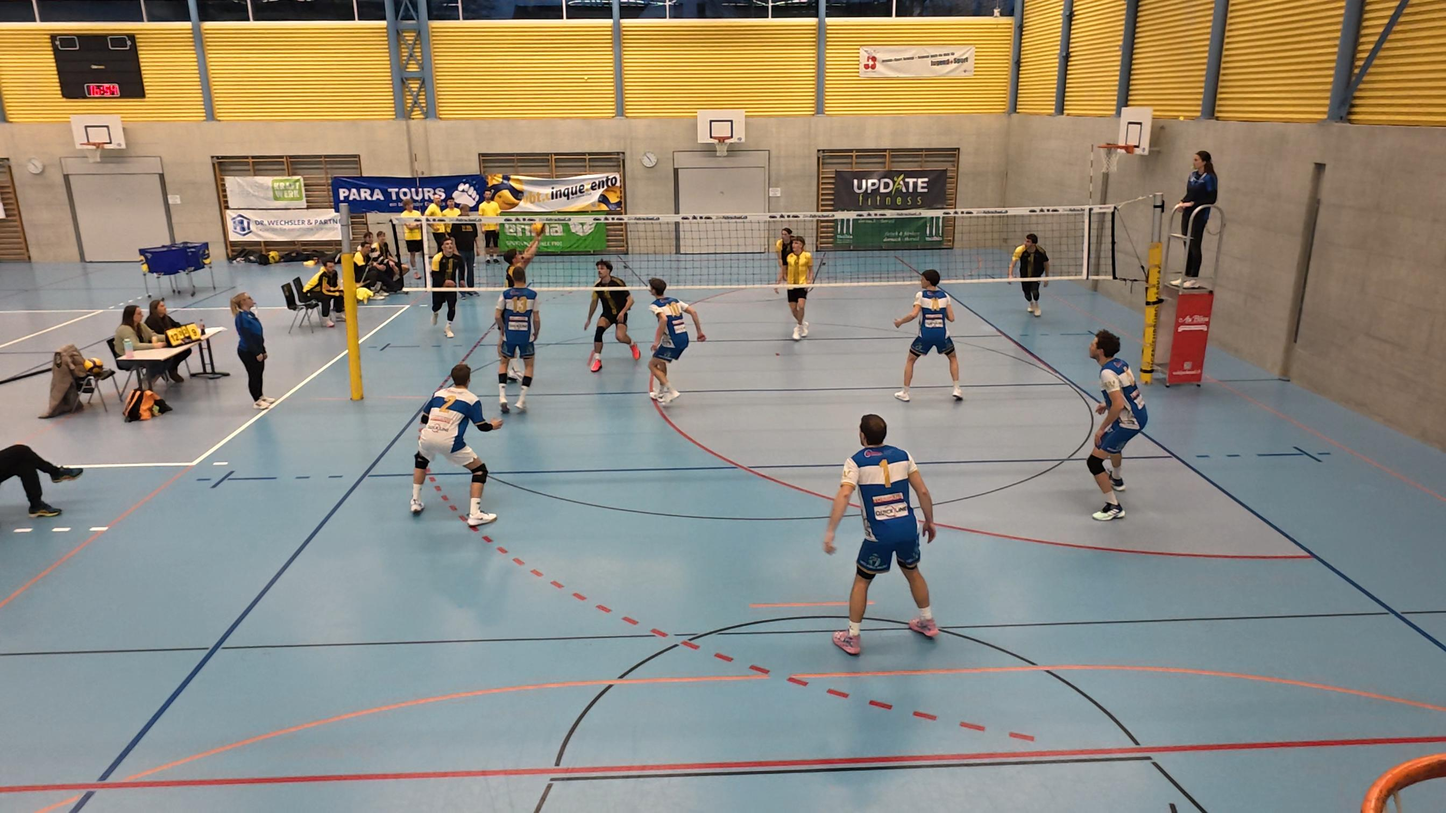alzata: (498, 222, 548, 291)
